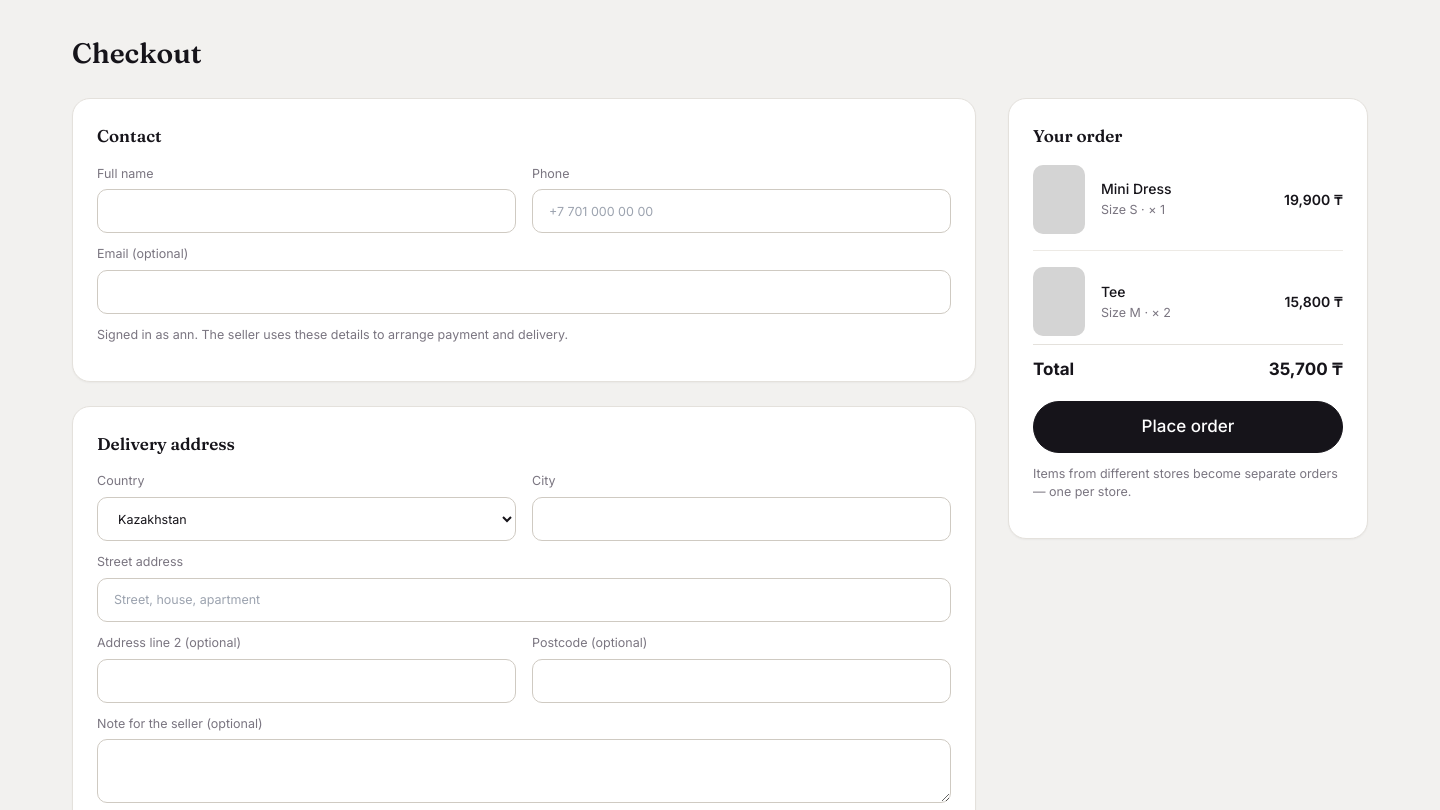
Test: checkout › a server refusal (sold out) is shown and the cart stays
This screenshot has width=1440, height=810.
Type "Ann Lee" into the field labelled "Full name". click: {"x": 306, "y": 211}
box: [97,189,516,233]
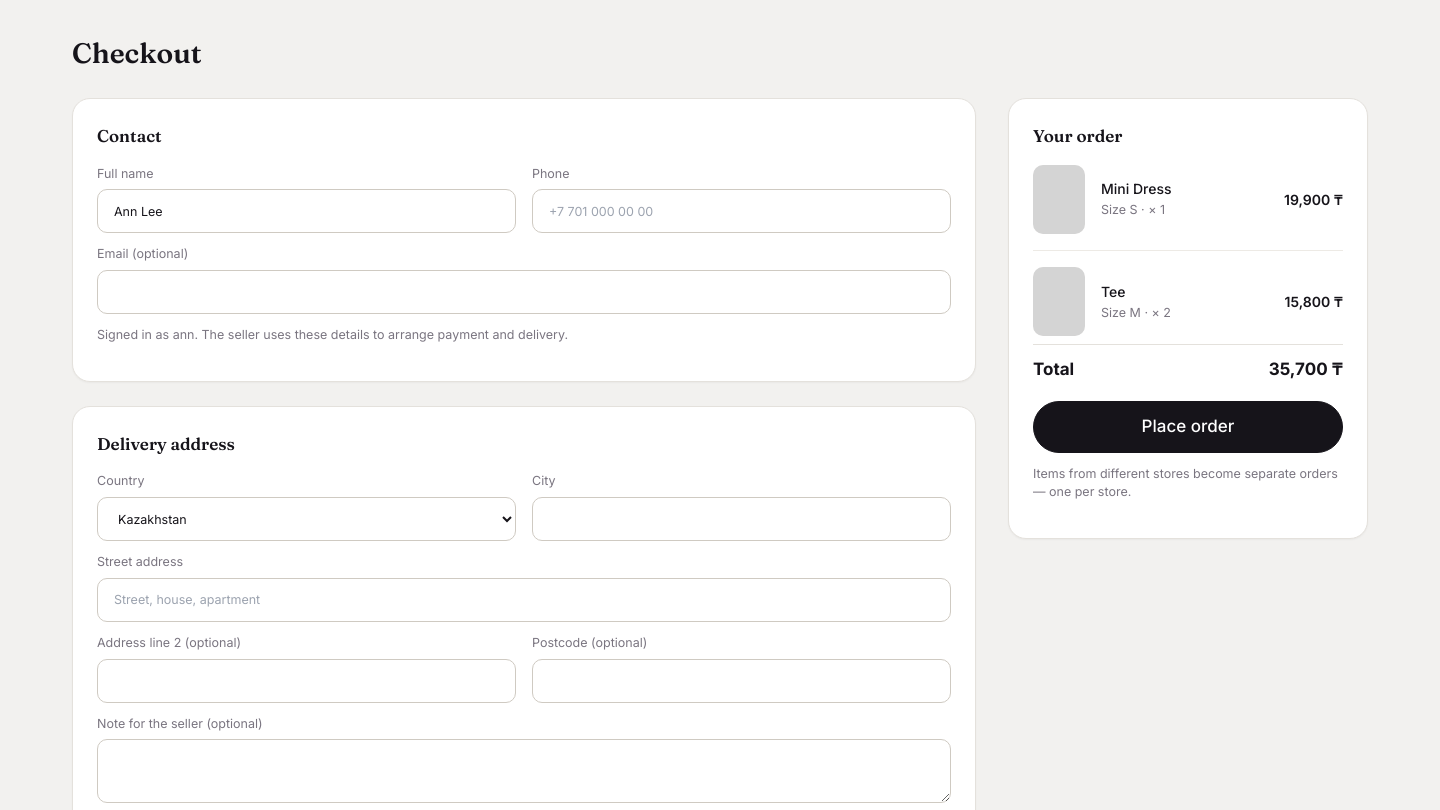
Type "+7 701 123 45 67" into the field labelled "Phone". click: {"x": 742, "y": 211}
box: [532,189,951,233]
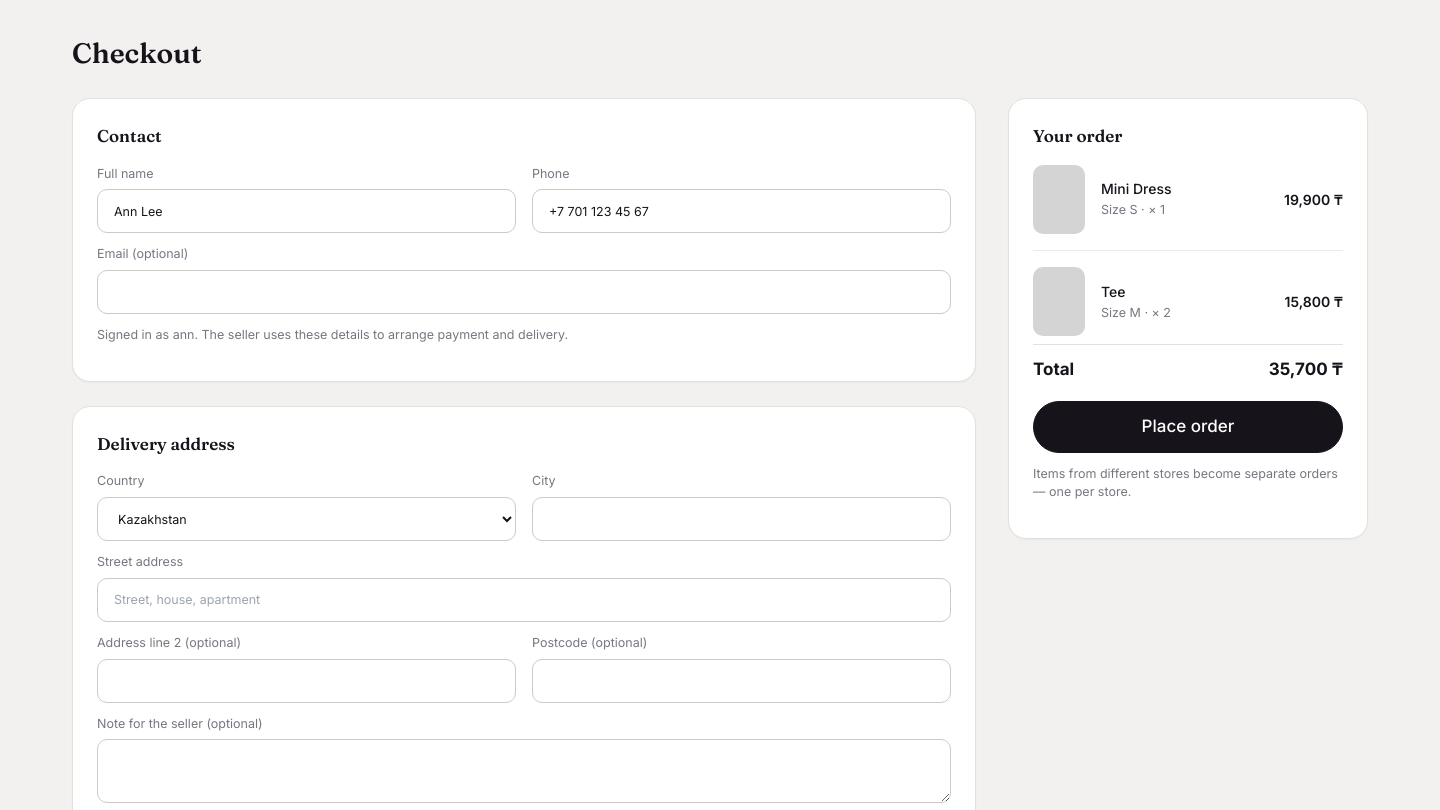
Type "Almaty" into the field labelled "City". click: {"x": 742, "y": 519}
box: [532,497,951,541]
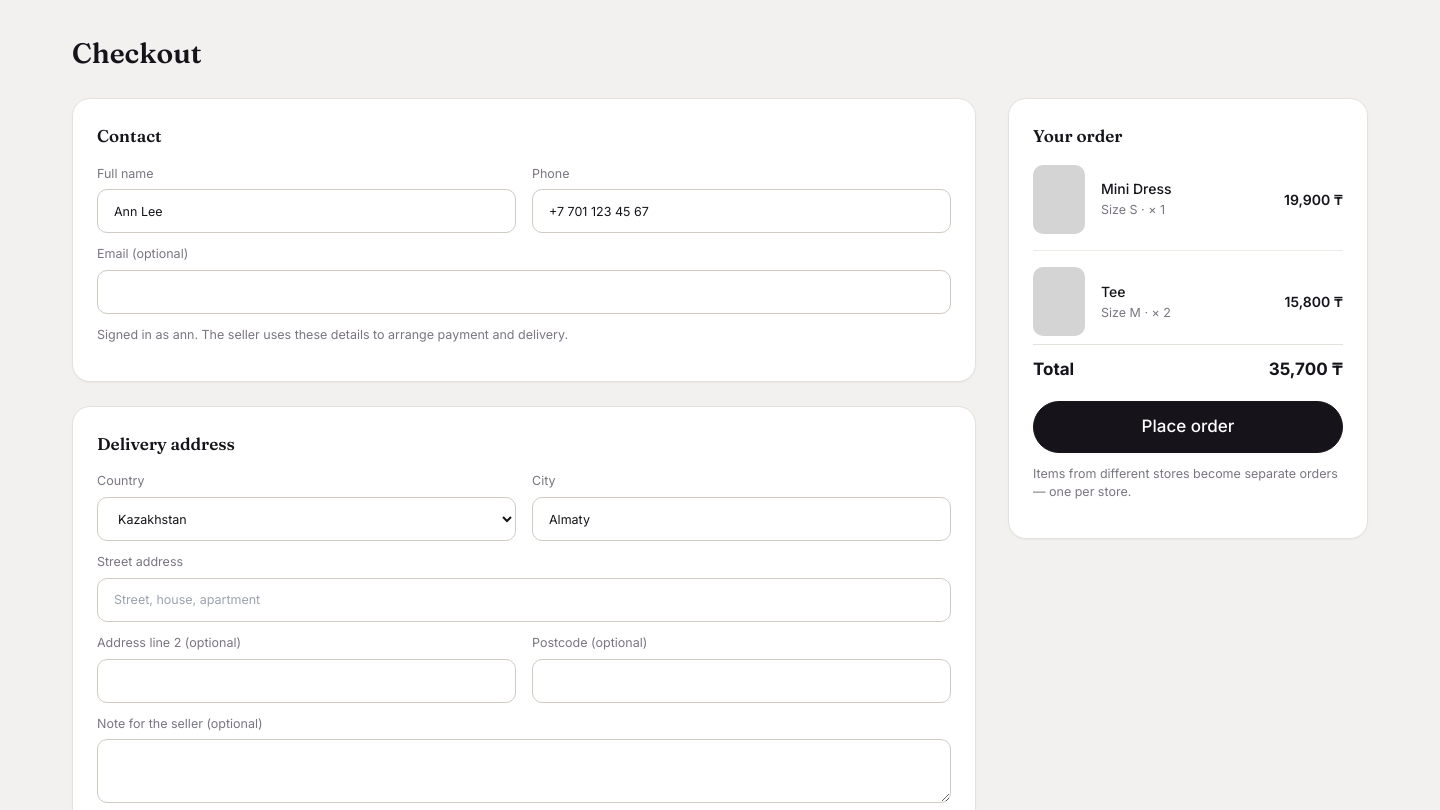
Type "Abay 10" into the field labelled "Street address". click: {"x": 524, "y": 600}
box: [97,578,951,622]
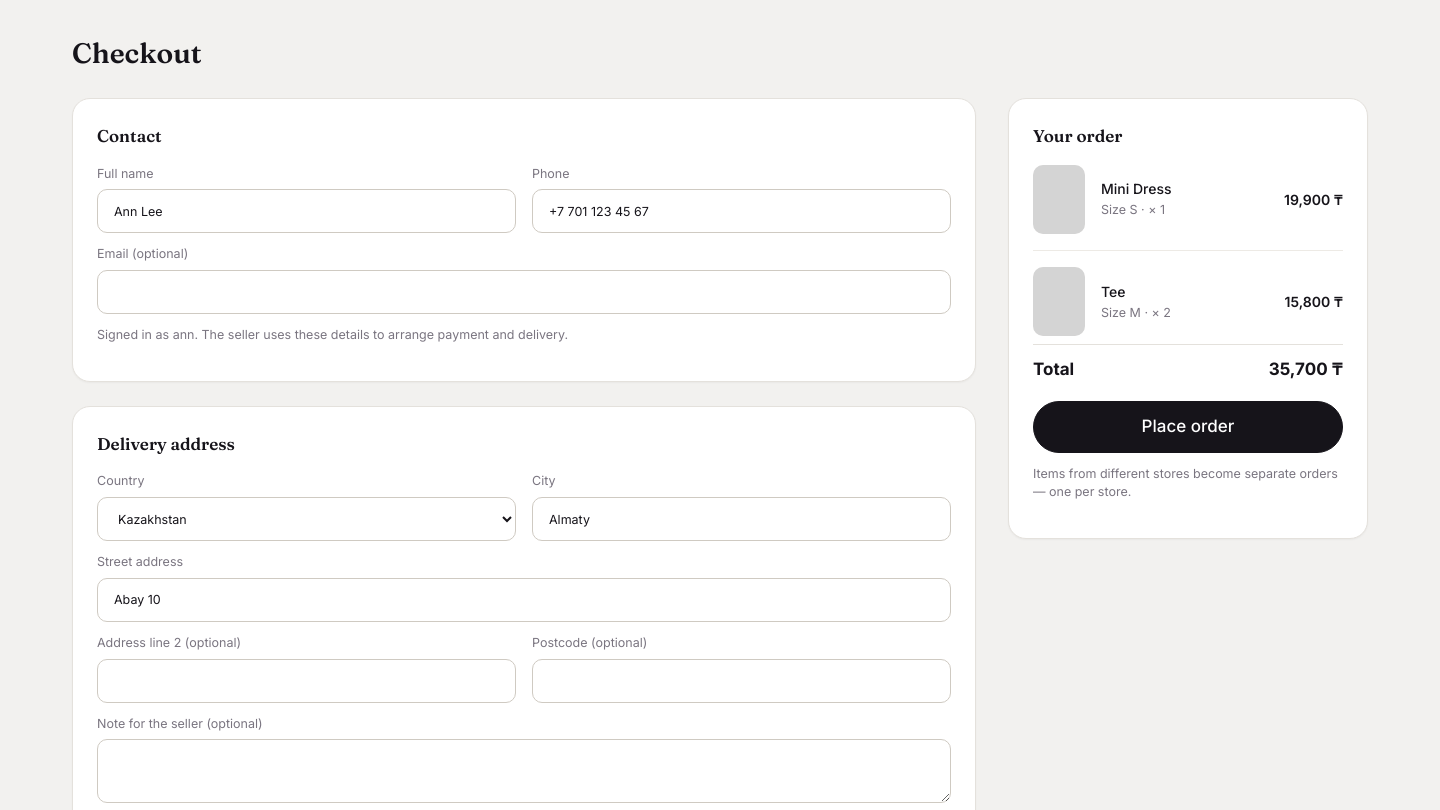
Click the button "Place order". click: {"x": 1188, "y": 427}
box: [1033,401,1343,453]
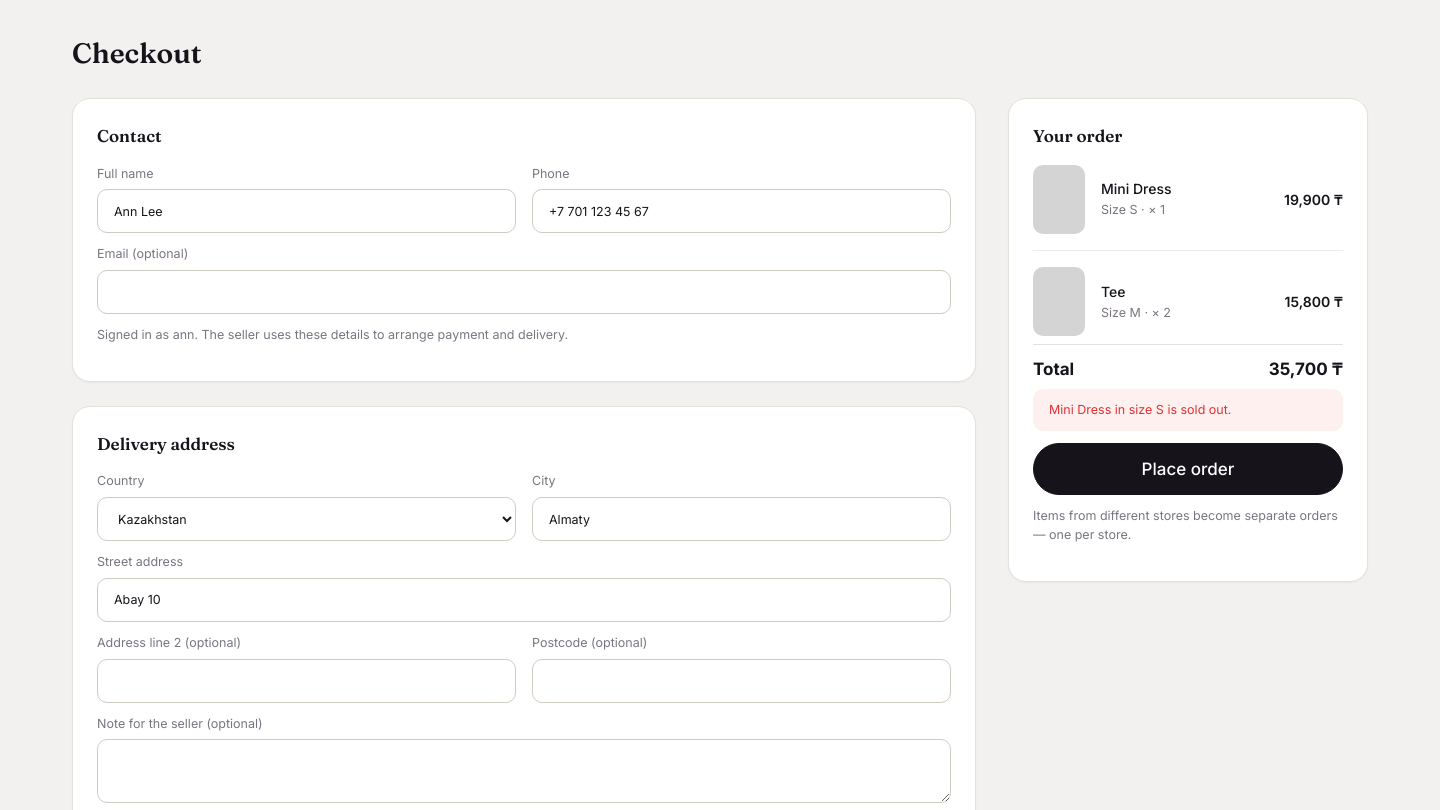
expect the message reads "Mini Dress in size S is sold out.": met, box [1049,402,1231,417]
